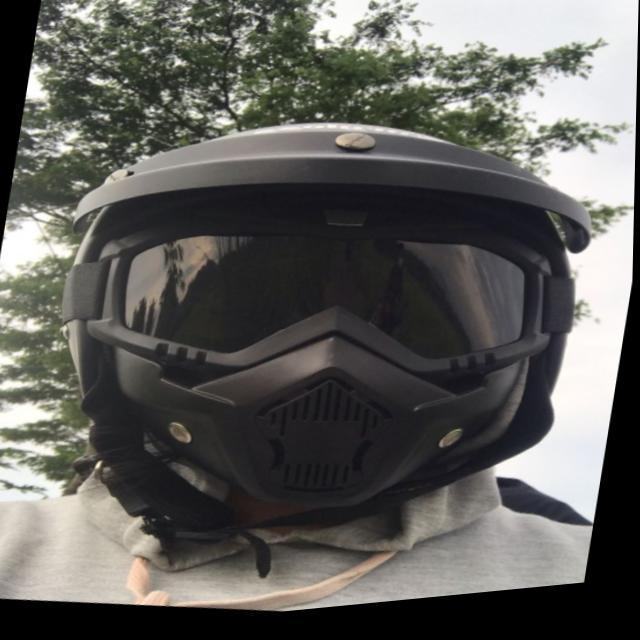Helmet: (57, 120, 592, 530)
